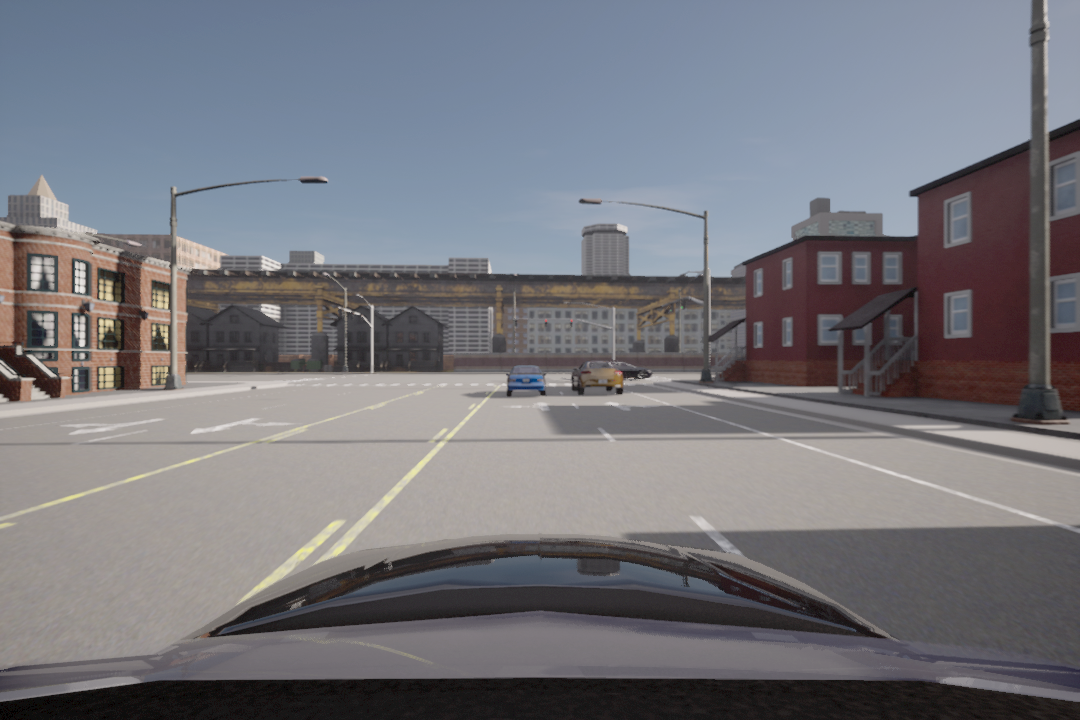RoadSign_forward_left: (191, 413, 287, 435), (504, 397, 554, 418)
RoadSign_forward_right: (59, 414, 164, 438), (604, 397, 651, 417)
